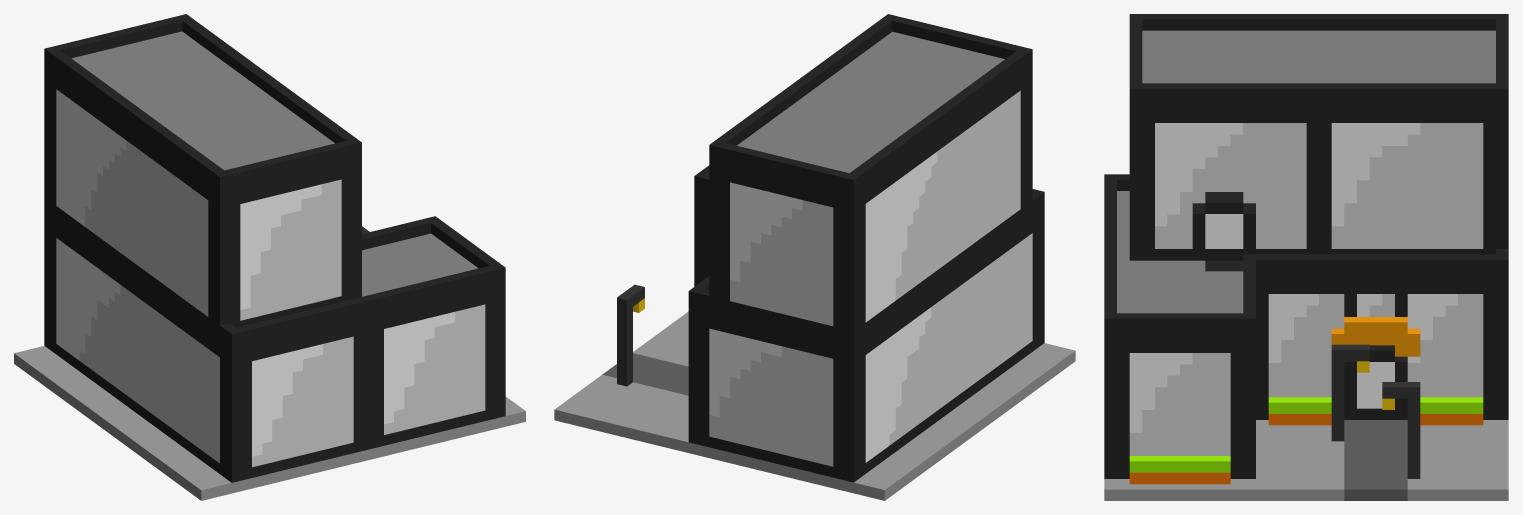
Rendered from Cafe_1.obj.
The picture shows the model from 3 angles, left to right: view 1: azimuth 30°, elevation 25°; view 2: azimuth 150°, elevation 25°; view 3: azimuth 270°, elevation 25°; orthographic projection. The views are drawn at different scales.
Bounding box in the file's own units: 3.2 × 2.9 × 3.2.
1 material, 1 textured.
